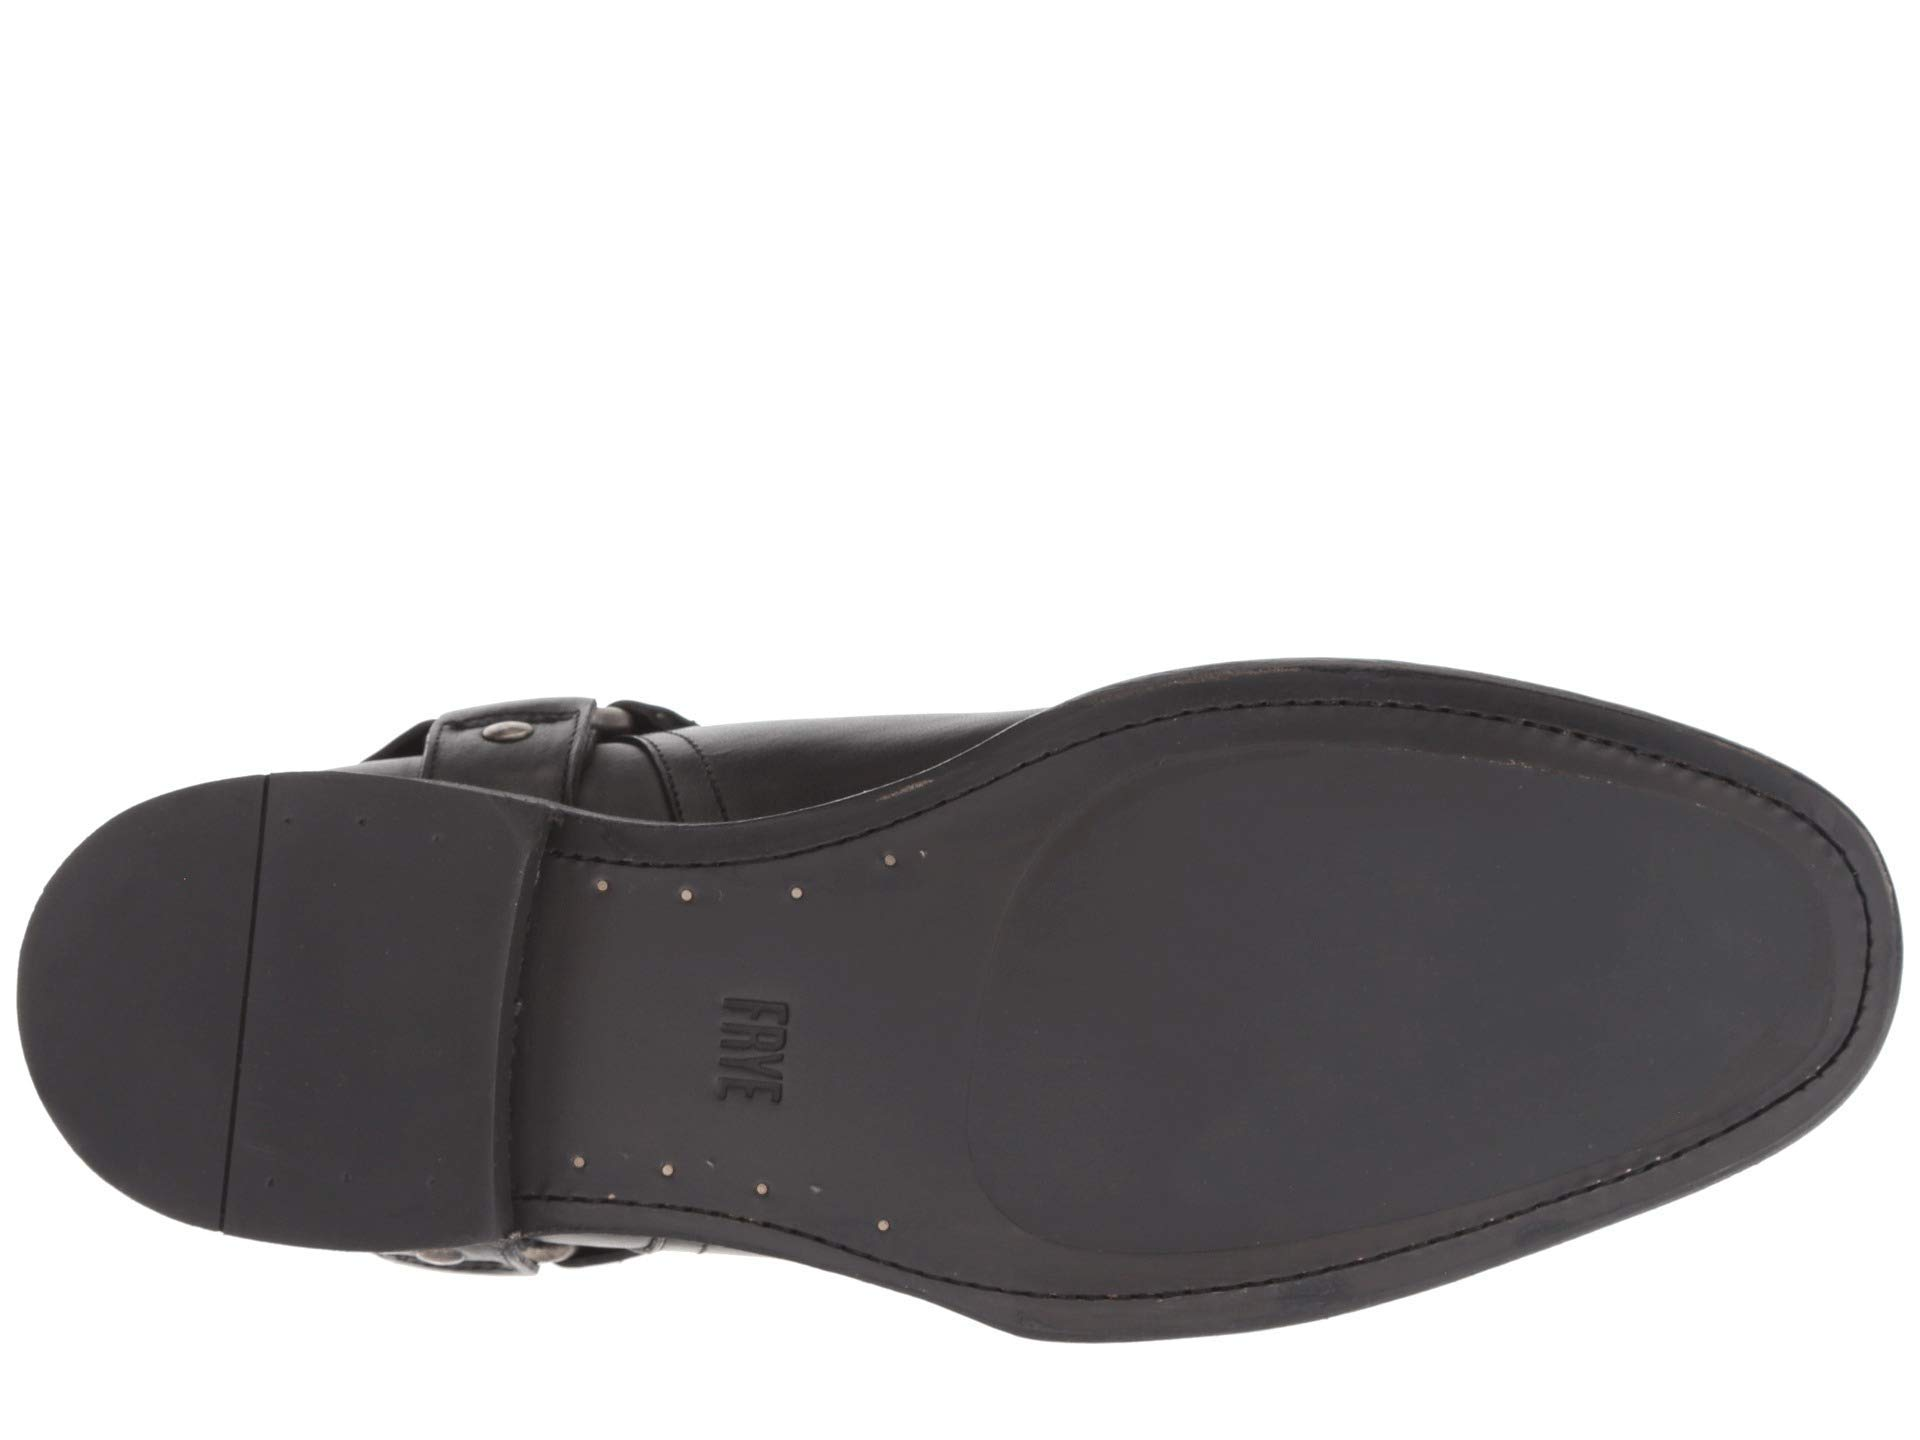circle: (590, 849, 962, 917)
line: (213, 811, 283, 1213), (590, 849, 962, 917)
text: (664, 951, 865, 1159)
